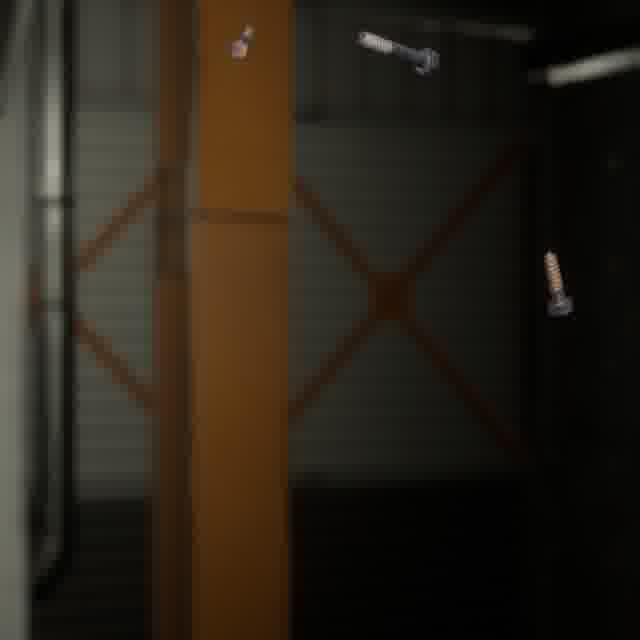bolt: (352, 27, 443, 81), (539, 247, 577, 320), (224, 21, 259, 65)
